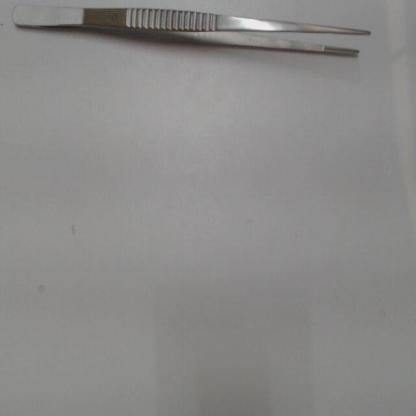DeBakey Dissector: (1, 3, 388, 84)
